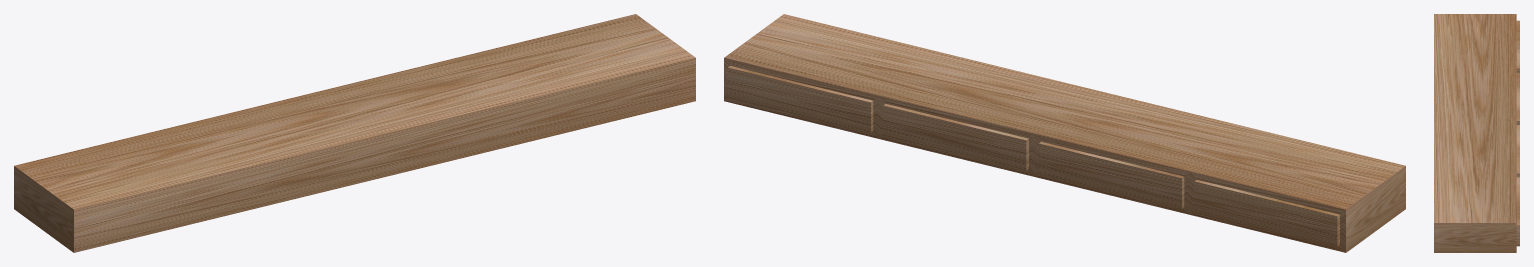
The model's file is cabinet.obj.
The picture shows the model from 3 angles, left to right: view 1: azimuth 30°, elevation 25°; view 2: azimuth 150°, elevation 25°; view 3: azimuth 270°, elevation 25°; orthographic projection. The views are drawn at different scales.
Parts seen in each view (by area): view 1: cabinet; view 2: cabinet; view 3: cabinet.
Part boxes in pixels (x1,y1,x2,y2): cabinet: (14,14,695,252); cabinet: (724,14,1405,252); cabinet: (1434,14,1519,252).
Bounding box in the file's own units: 3000 × 200 × 520.
1 material, 1 textured.
